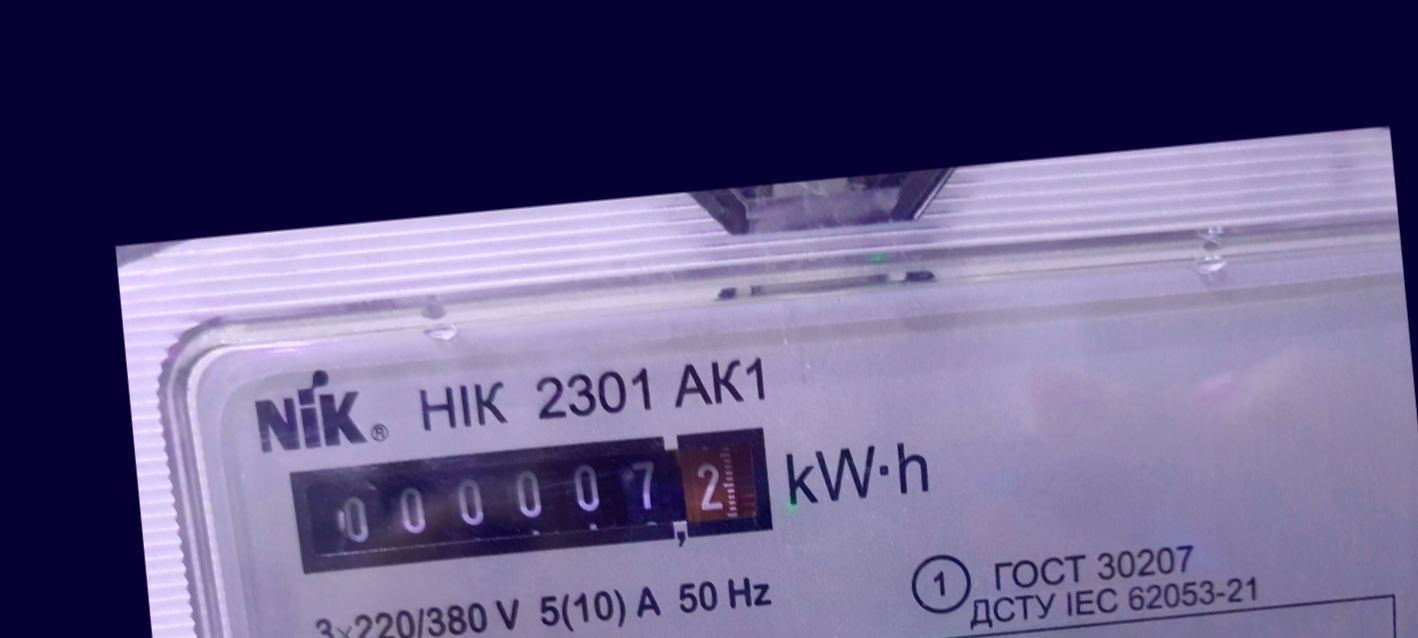0: (393, 481, 432, 536), (568, 460, 605, 516), (510, 465, 546, 521), (337, 492, 374, 545), (453, 473, 488, 528)
2: (692, 460, 727, 514)
7: (627, 456, 661, 513)
screen: (270, 406, 795, 595)
